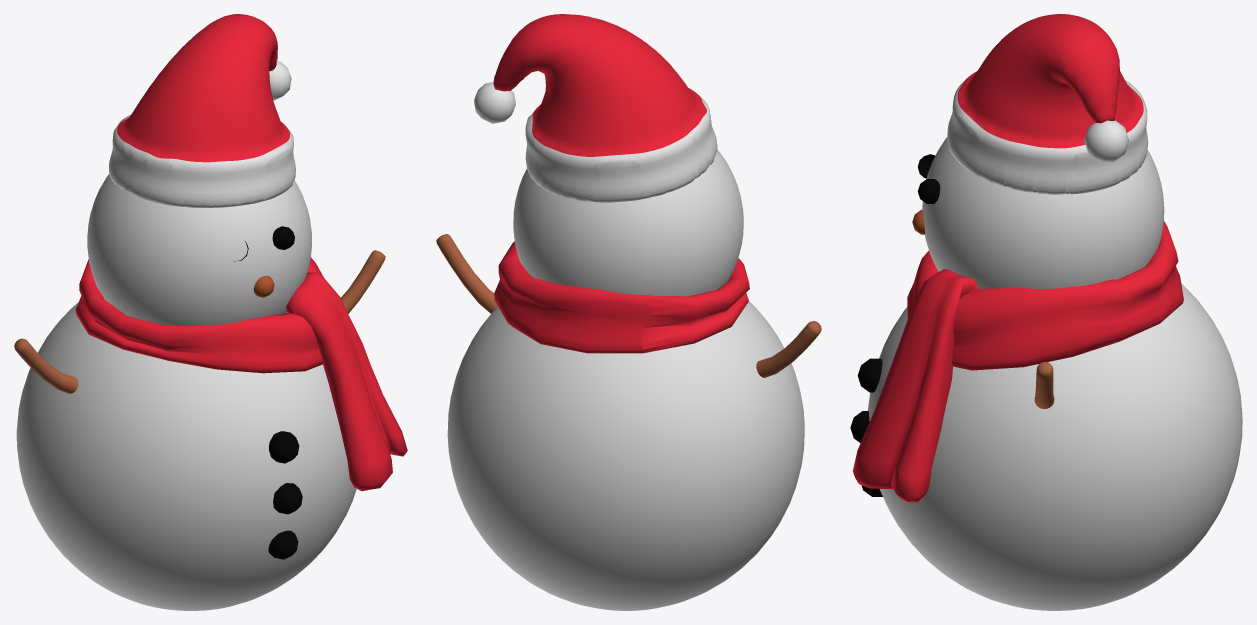
File: snowMan.glb
The picture shows the model from 3 angles, left to right: view 1: azimuth 30°, elevation 25°; view 2: azimuth 150°, elevation 25°; view 3: azimuth 270°, elevation 25°; orthographic projection. The views are drawn at different scales.
Parts seen in each view (by area): view 1: Sphere.120; view 2: Sphere.120; view 3: Sphere.120.
Part boxes in pixels (x1,y1,x2,y2): Sphere.120: (14,14,407,610); Sphere.120: (436,14,821,610); Sphere.120: (850,14,1242,610).
Bounding box in the file's own units: 1.33 × 1.9 × 1.13.
